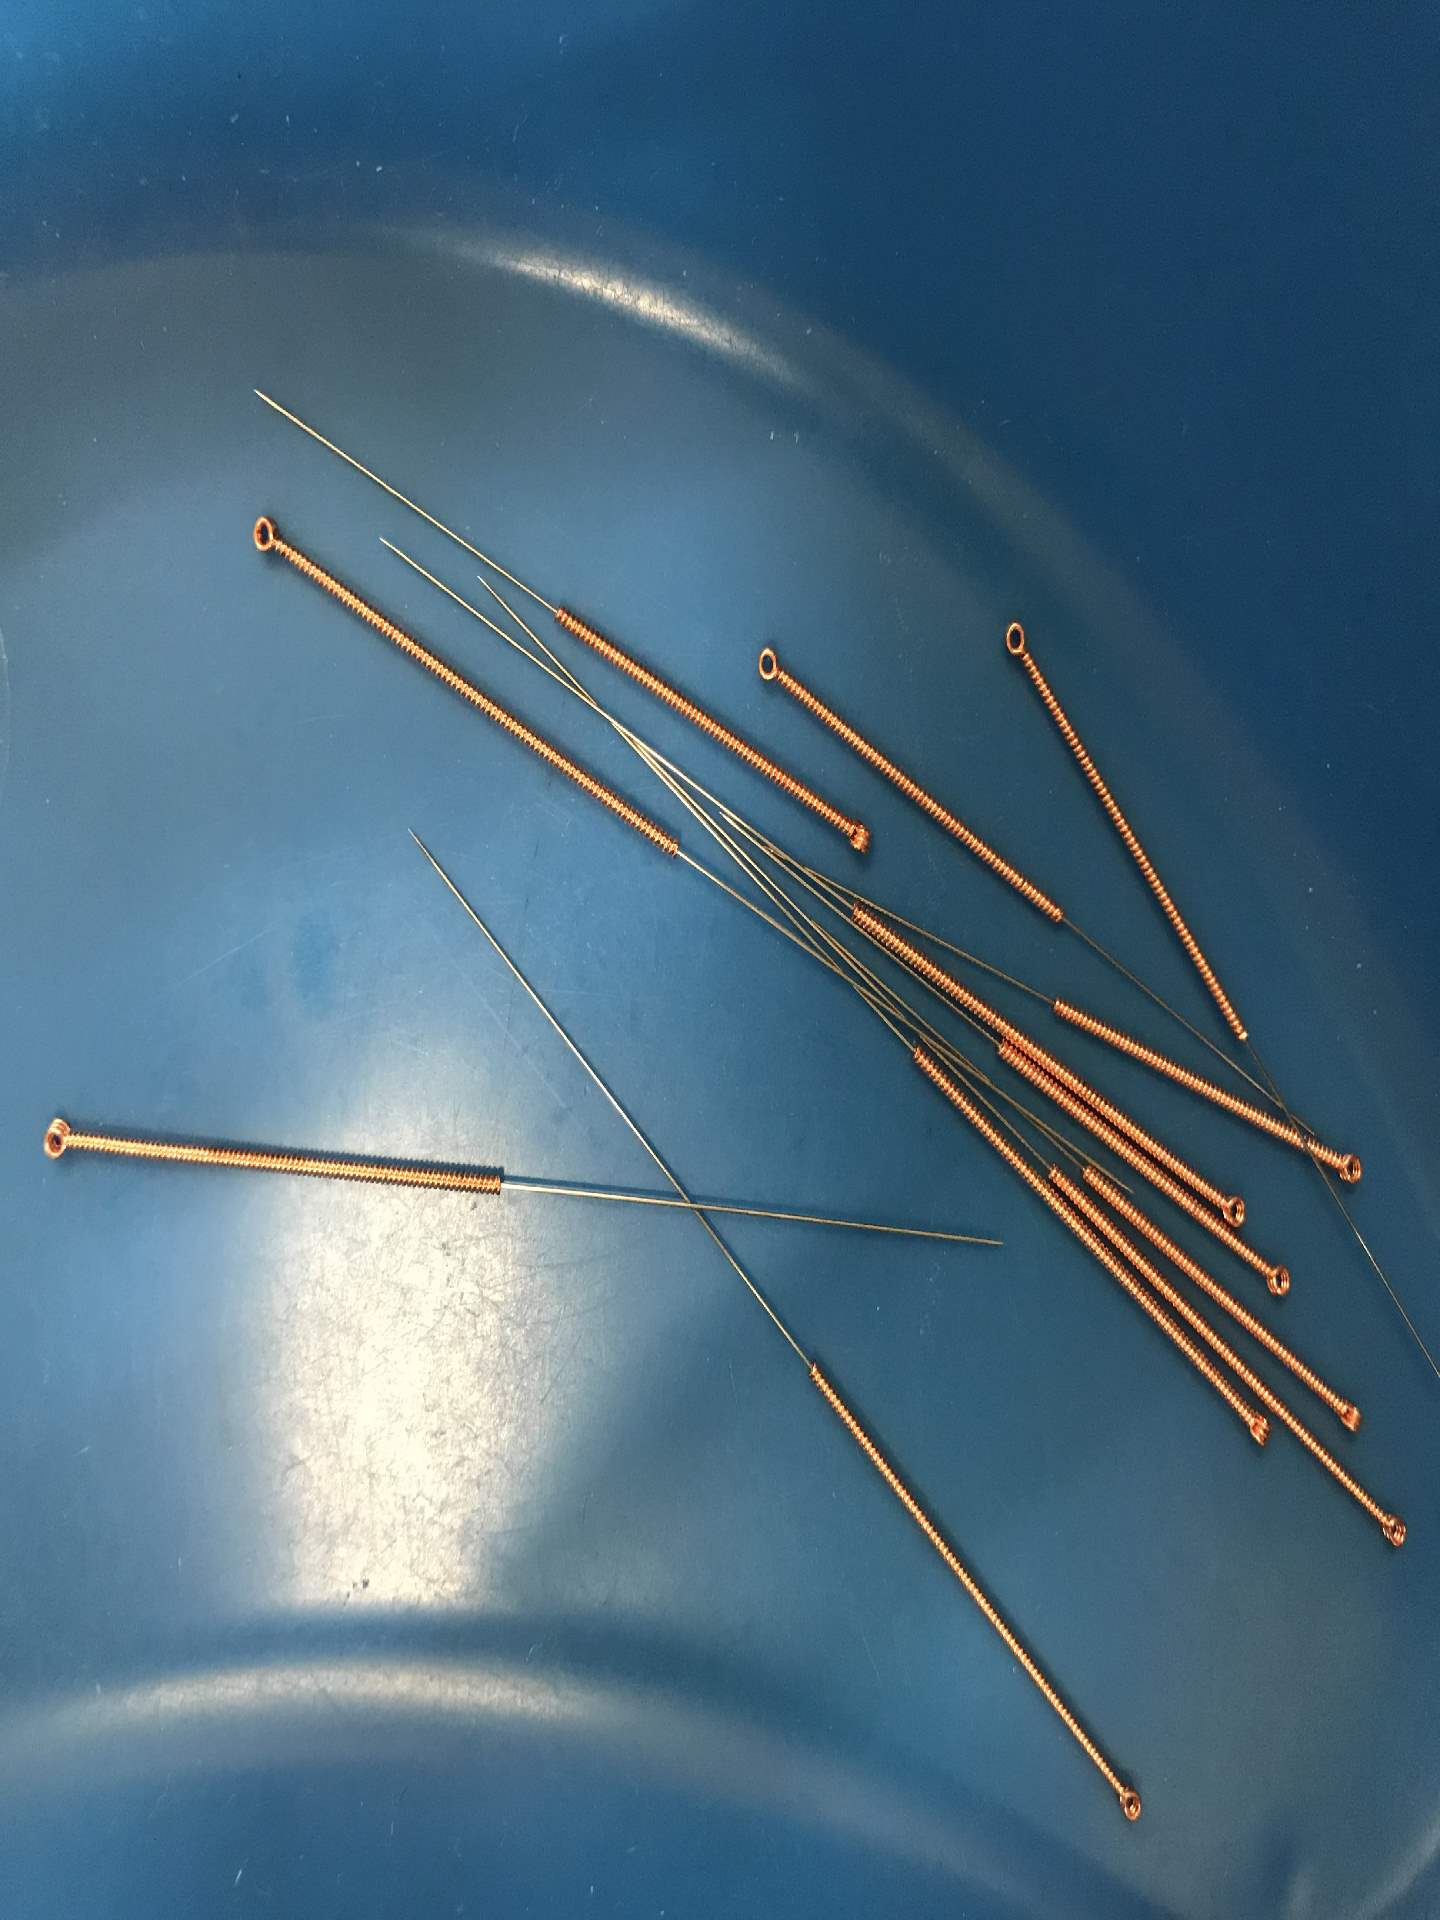needle: (988, 609, 1044, 680), (27, 1108, 88, 1173), (1097, 1772, 1156, 1835), (233, 503, 296, 561), (747, 636, 802, 698), (826, 810, 883, 866), (1319, 1131, 1367, 1193), (1249, 1249, 1299, 1303), (1231, 1401, 1277, 1460), (1327, 1391, 1370, 1441), (1369, 1504, 1413, 1553), (1216, 1184, 1249, 1231)
